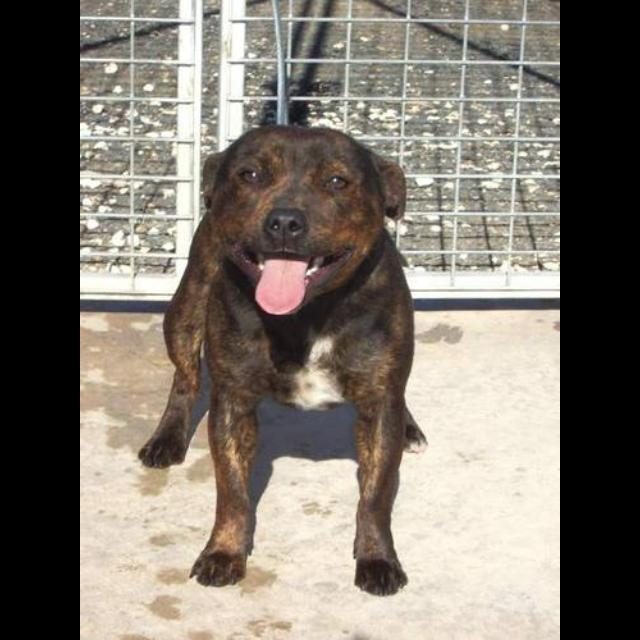staffford: (138, 122, 429, 596)
